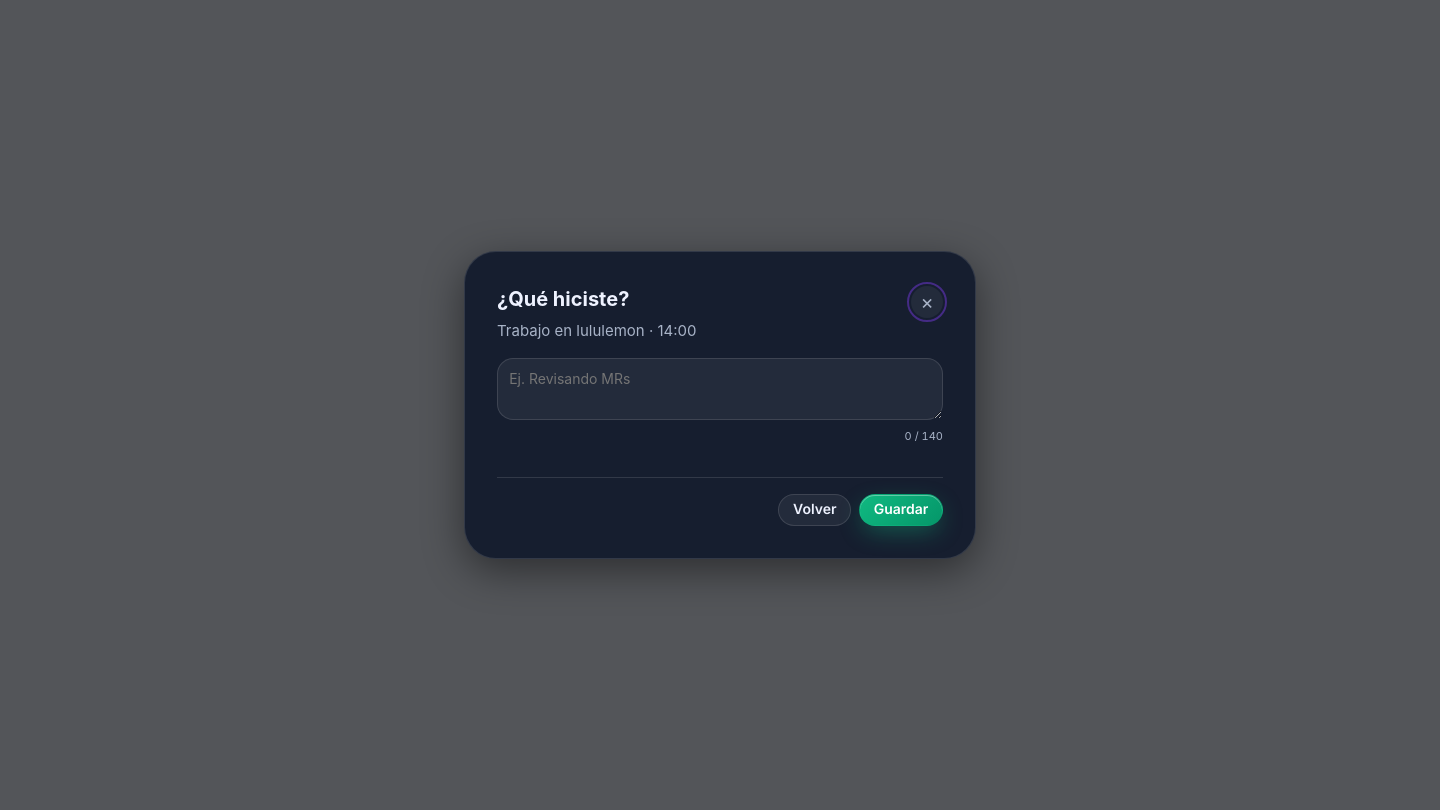
VidaNoteSheet › el fallo se lee dentro y **no** se pierde lo escrito
Type "Revisando MRs" into the text box named "¿Qué hiciste?" at x=720, y=389, box [497,358,943,420]
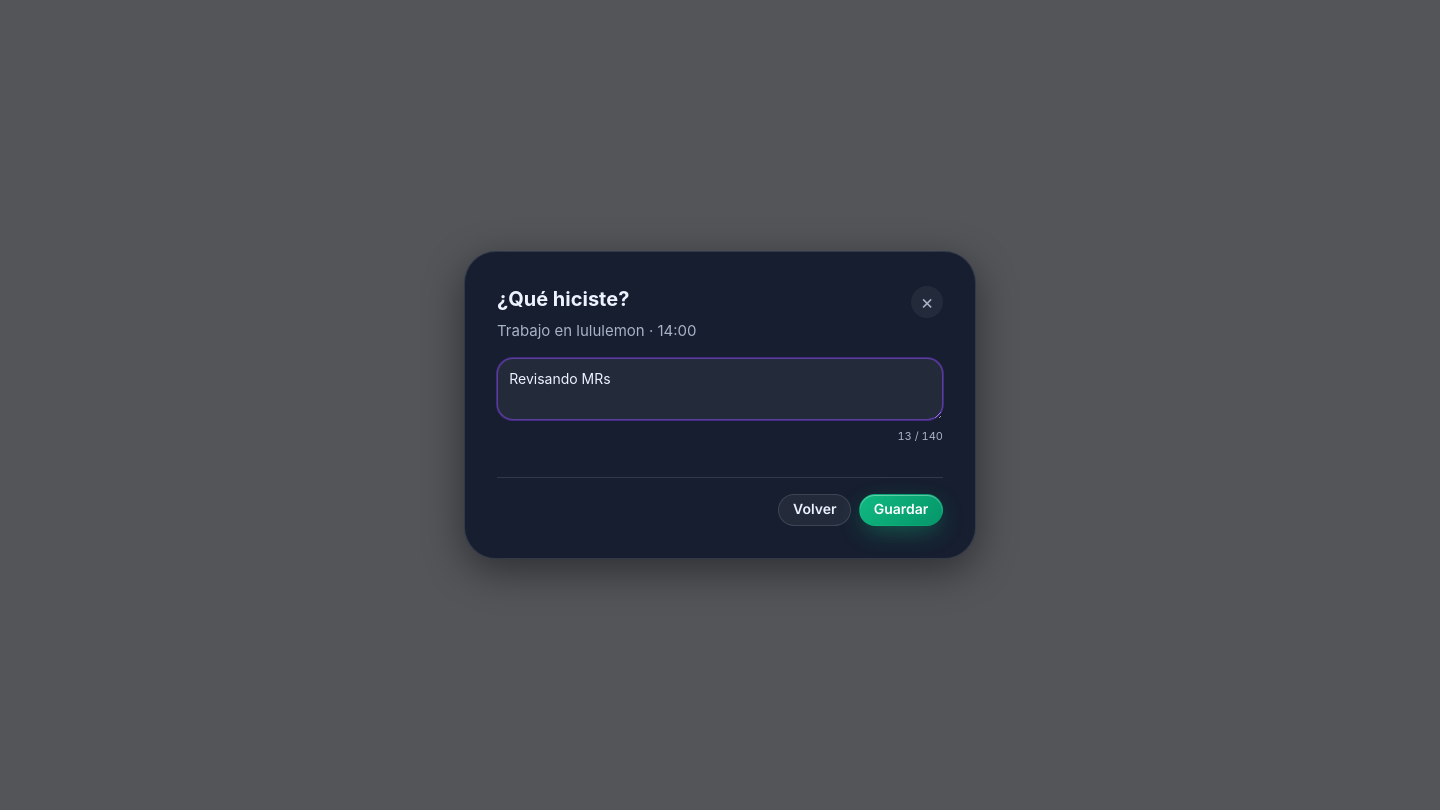
Click the button "Guardar" at x=901, y=510, box [859,494,943,526]
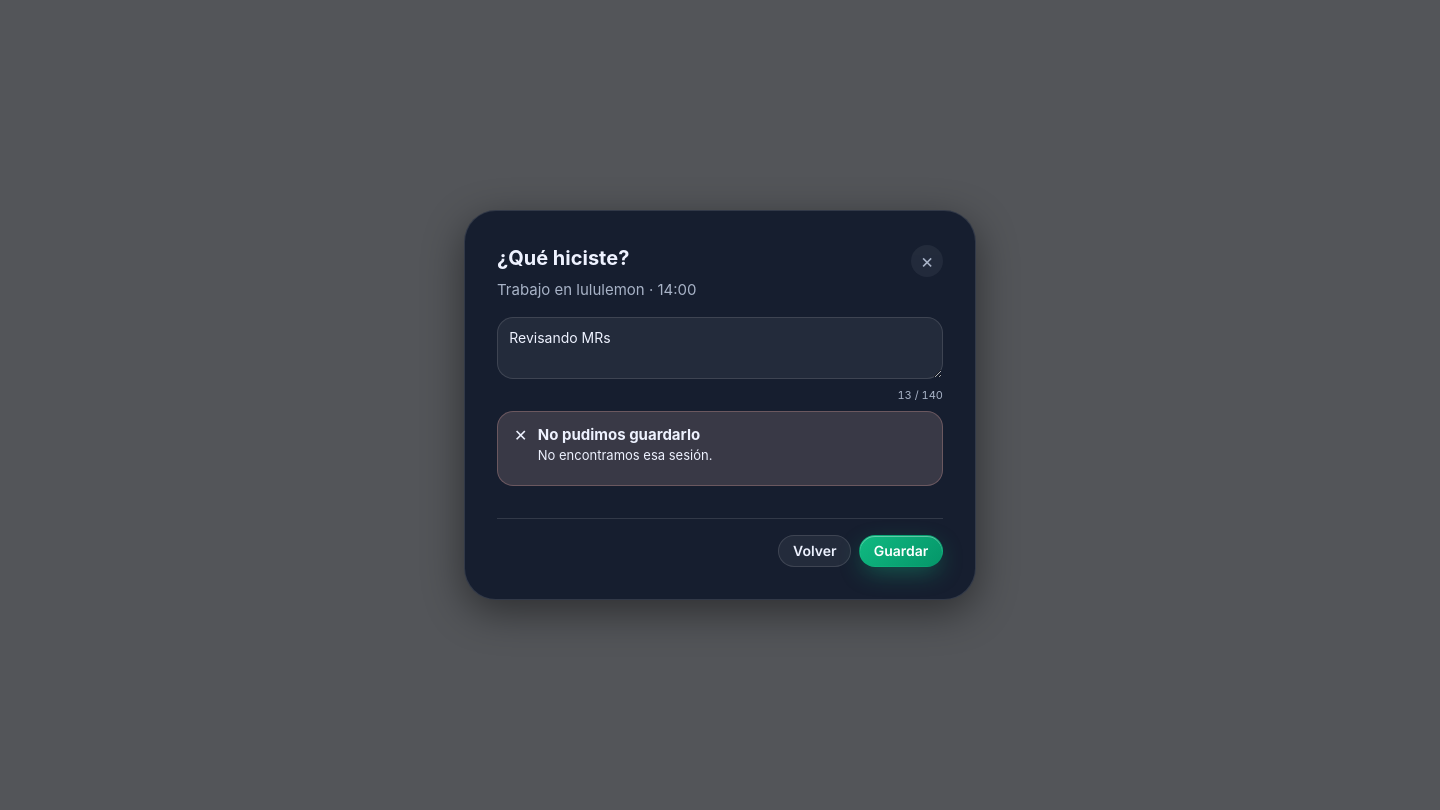
Check: the text "No encontramos esa sesión." is shown, box [538,447,712,463]
